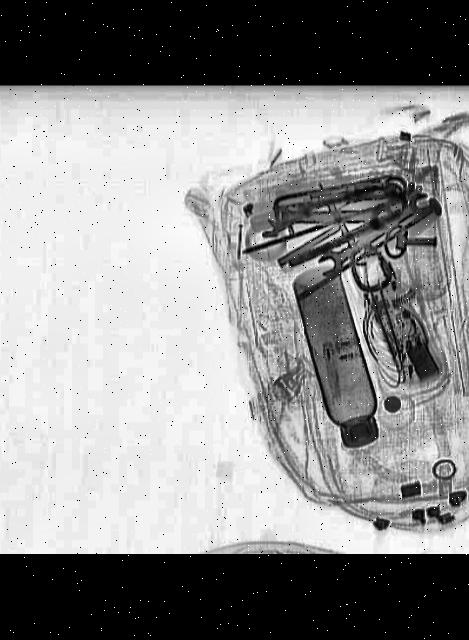Wrench: (306, 186, 438, 281), (265, 202, 388, 231)
